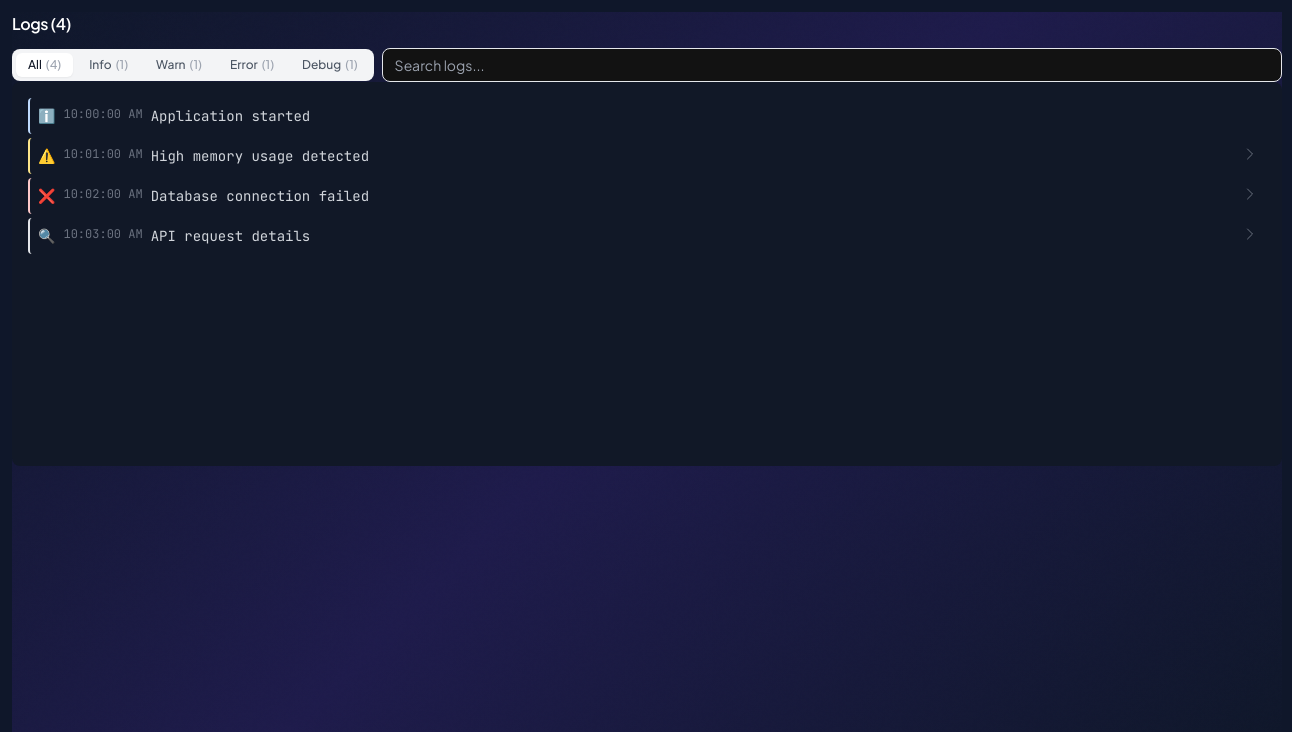
Scenario: LogViewer Component › Level Filtering › filters by warn level
The image size is (1292, 732).
Click the button "Warn(1)". click: [179, 65]
box: [144, 53, 214, 77]
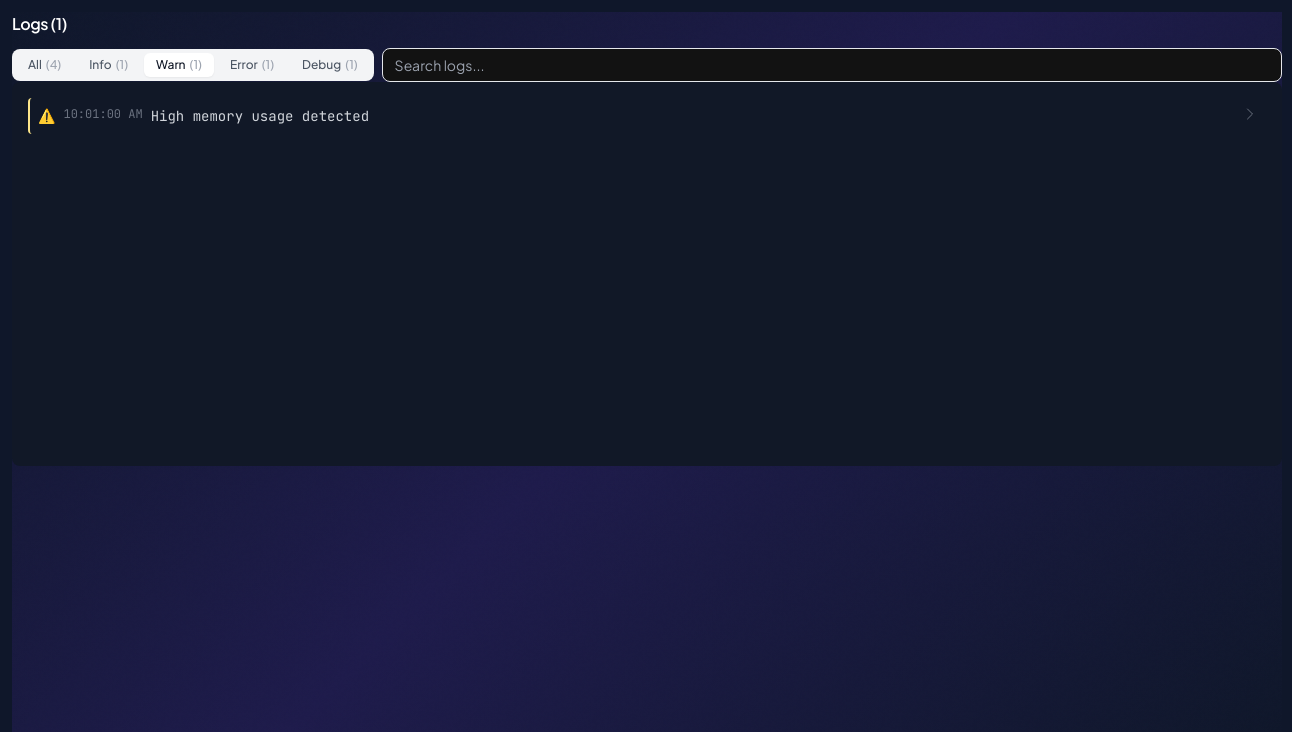
Check: the text "High memory usage detected" is shown, box [151, 107, 369, 125]
Check: the text "Application started" is gone
